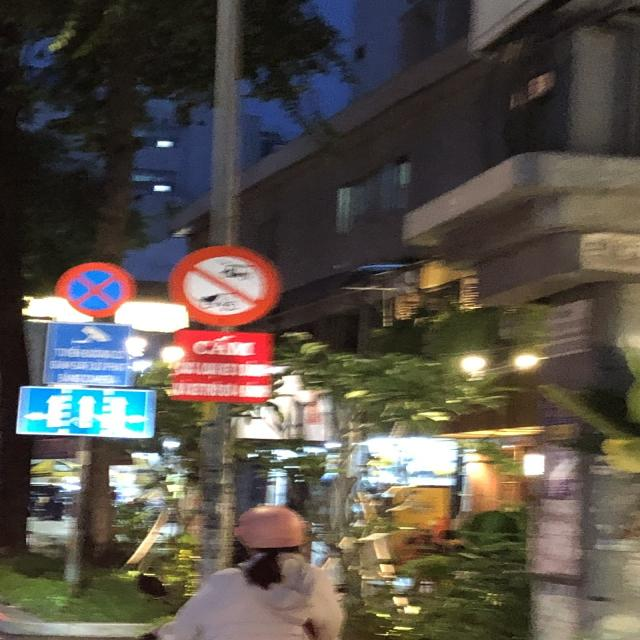Bien bao cam dung xe va do xe: (50, 256, 134, 317)
